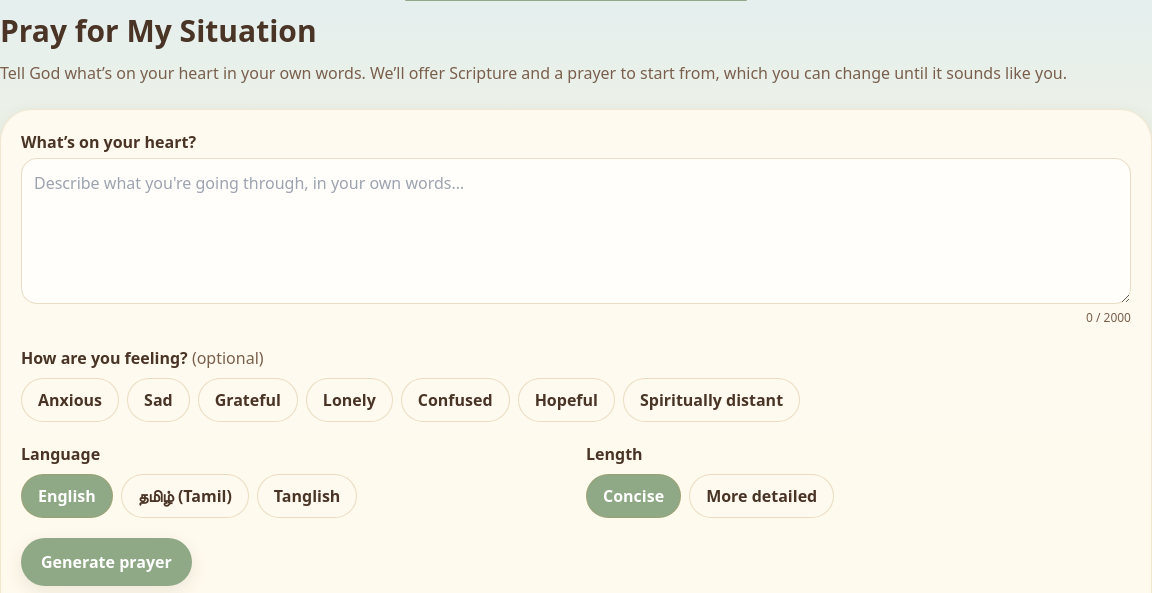
Test: Scripture is rendered separately from generated text › shows verified quotations, paraphrases and notes in their own region, outside the prayer editor
This screenshot has width=1152, height=593.
Type "I am anxious about my exams and cannot sleep." into the text box labelled "What’s on your heart? 0 / 2000" at (576, 231), box [21,158,1131,304]
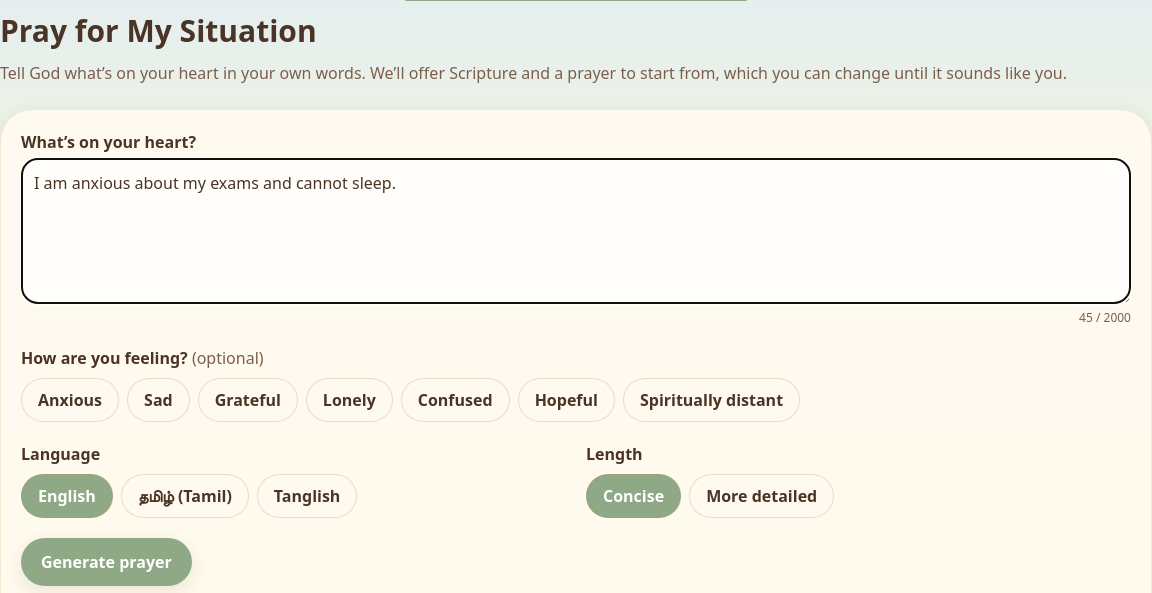
Click the button "Generate prayer" at (106, 562), box [21,538,192,586]
(page scrolled)
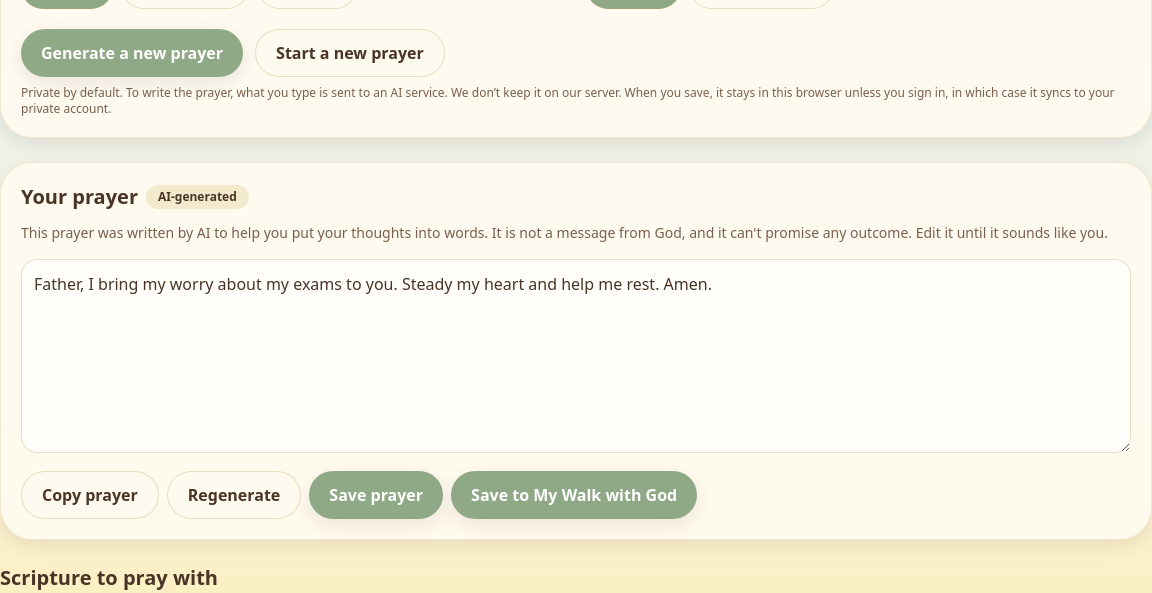
expect the text "AI-generated" is shown: met, box [146,185,249,209]
expect the text with test id "ai-notice" shows "not a message from God": met, box [21,223,1108,242]
expect the text with test id "ai-notice" shows "can't promise any outcome": met, box [21,223,1108,242]
